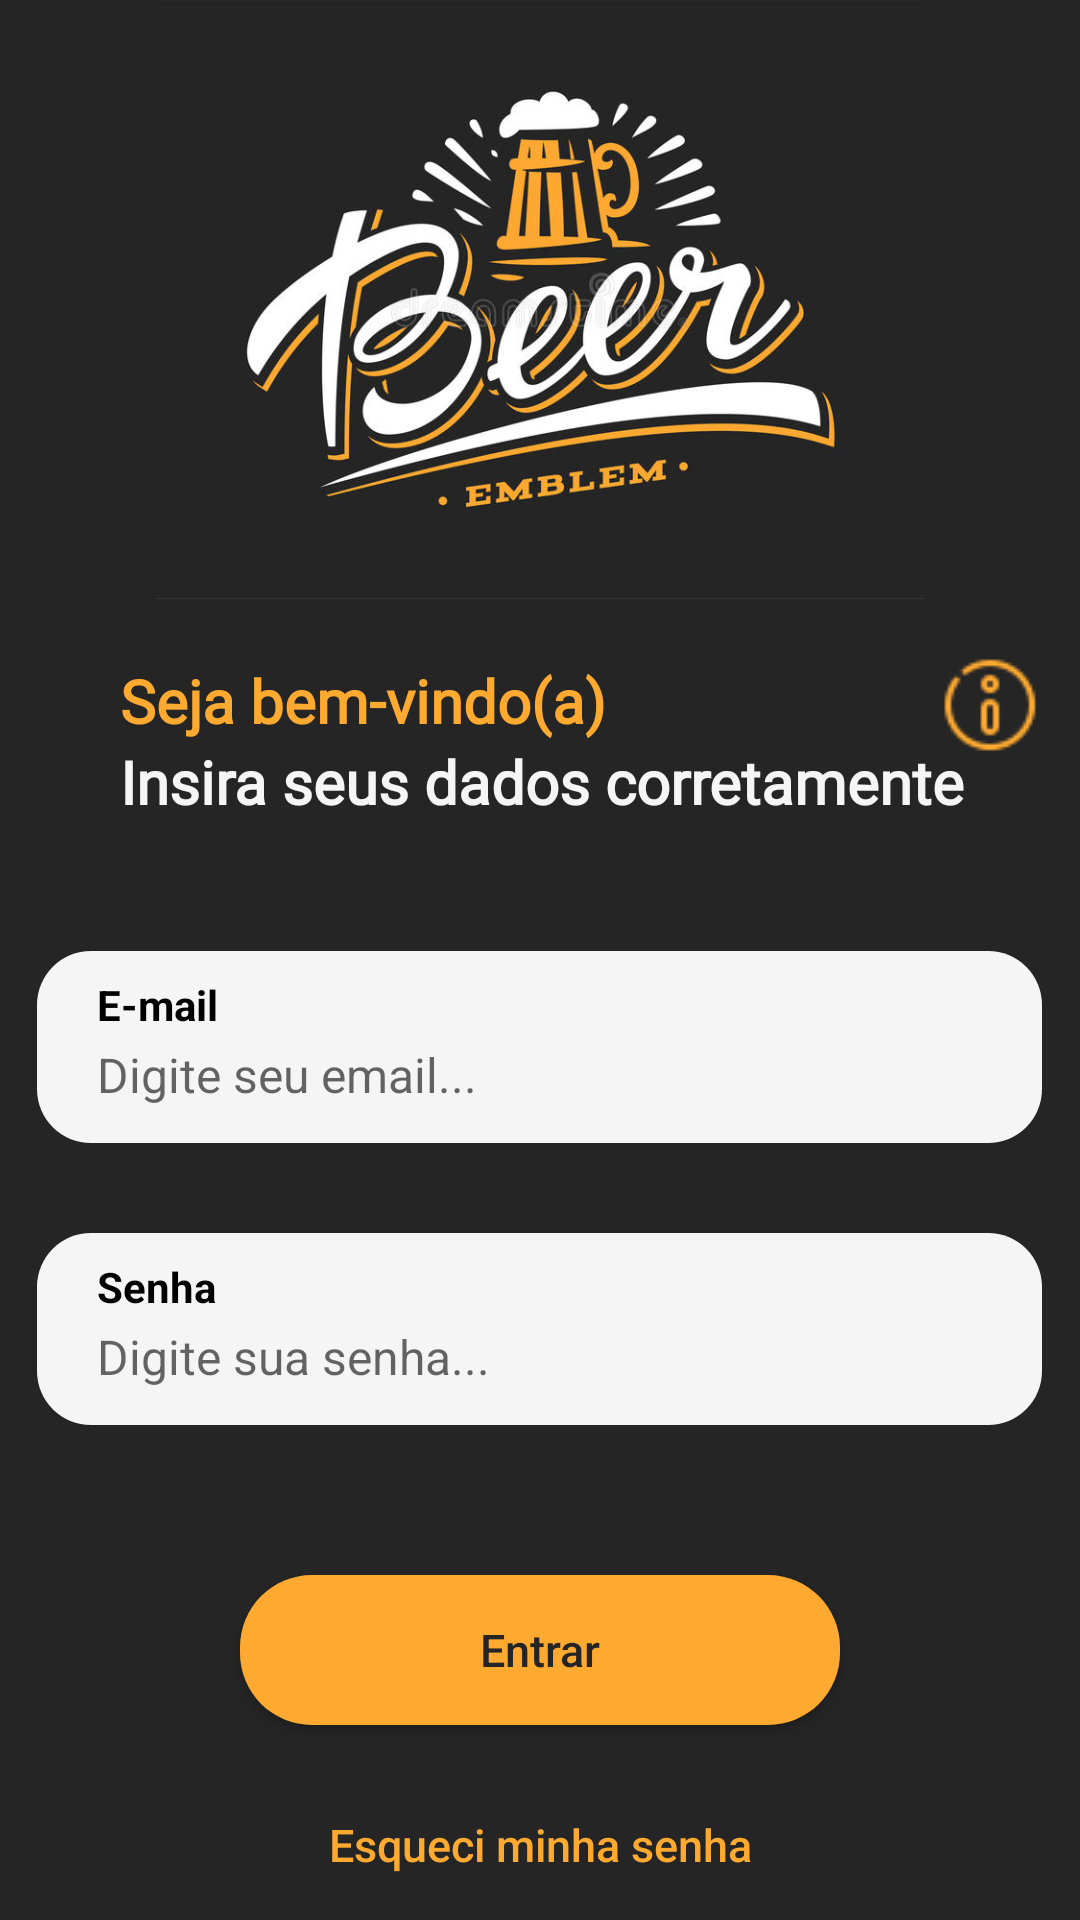

Icon bounding boxes for this 1080×1920 phone screenshot, format detection(x1, y1, x2, y2):
info: detection(944, 659, 1036, 751)
